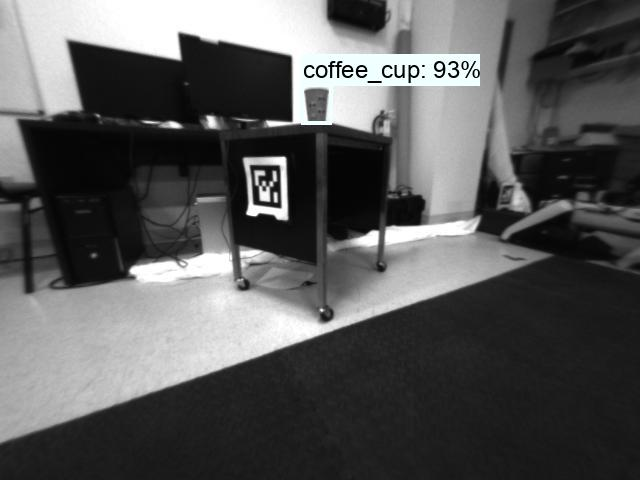coffee_cup: (302, 87, 331, 123)
